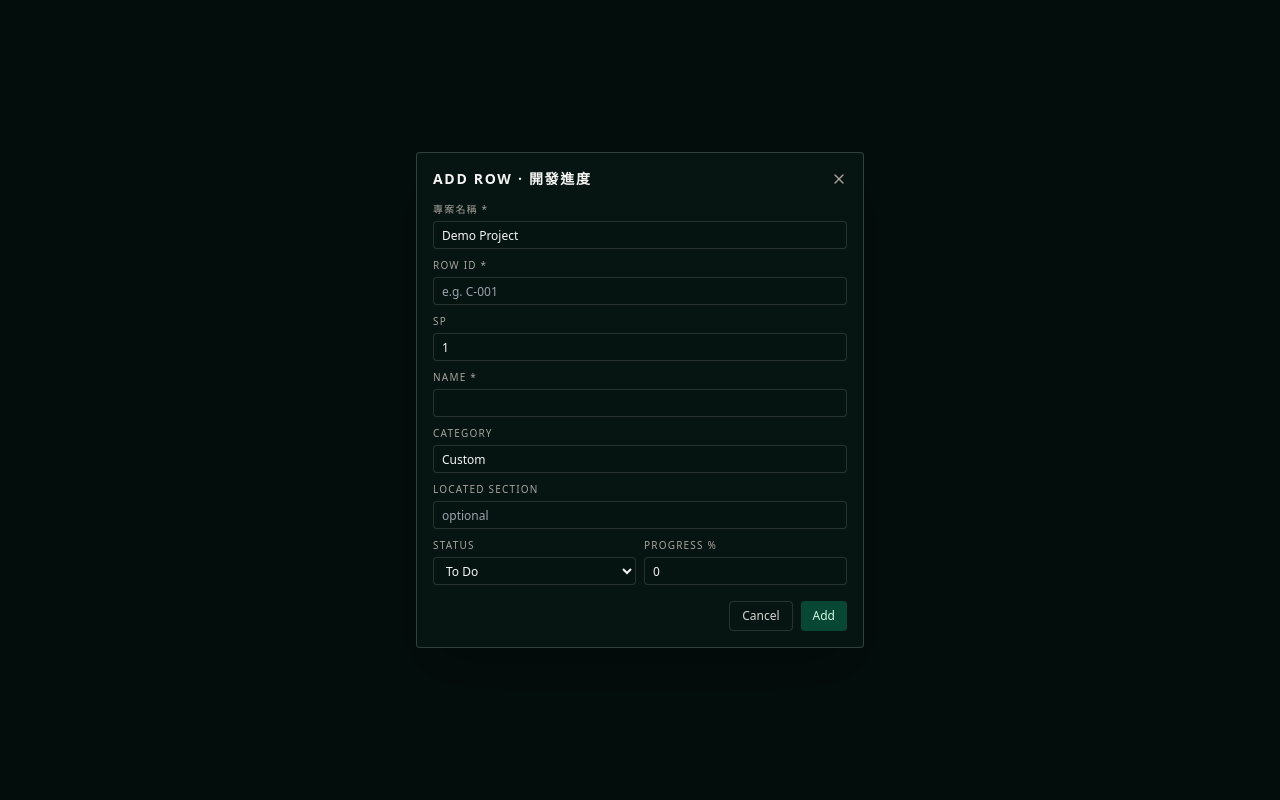
Scenario: AddRowModal submission payloads › rejects empty rowId with an inline error
Click the button "Add" at (824, 616), box [801,601,847,631]
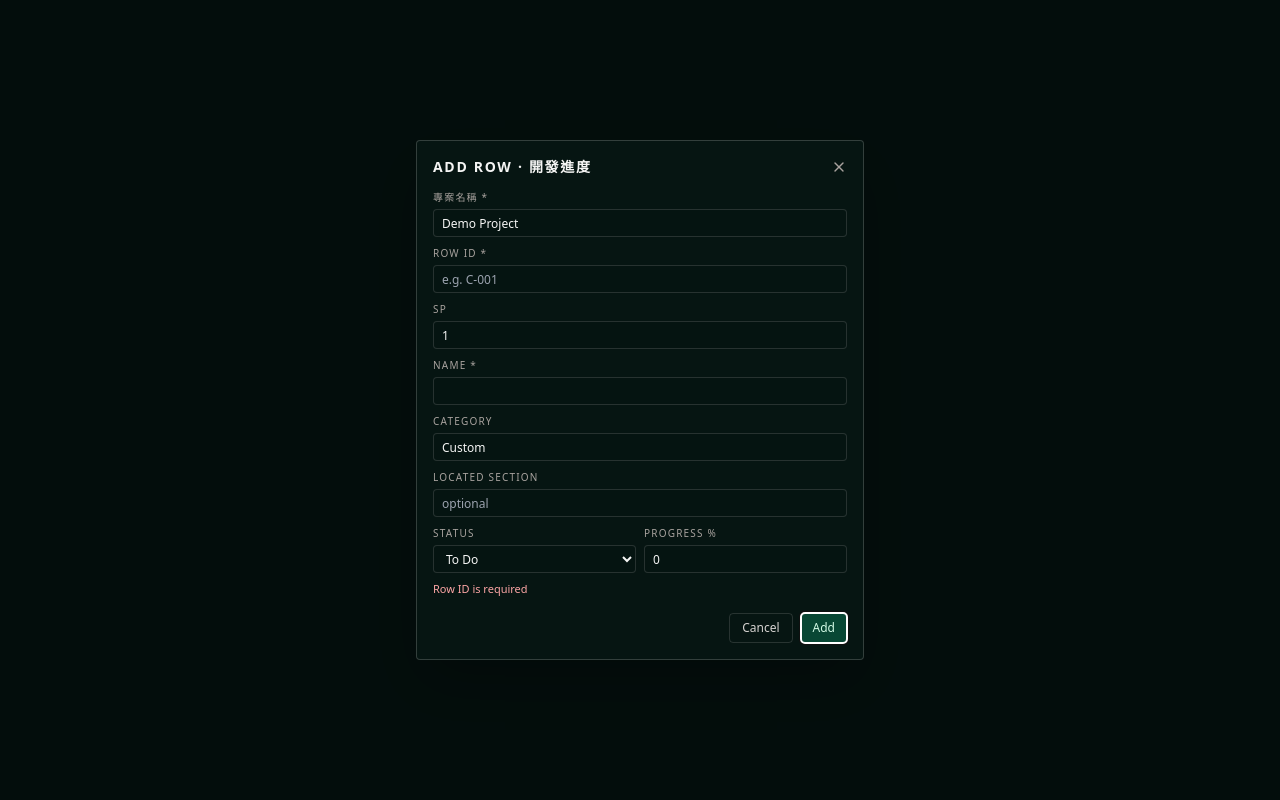
Check: the text "Row ID is required" is shown, box [433,581,528,596]
